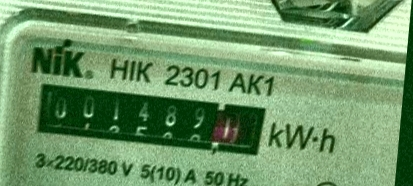0: (79, 91, 97, 118), (52, 93, 69, 119)
1: (108, 93, 124, 123), (219, 109, 233, 140)
4: (135, 97, 153, 124)
8: (161, 99, 180, 127)
9: (189, 104, 207, 130)
screen: (20, 70, 282, 169)
